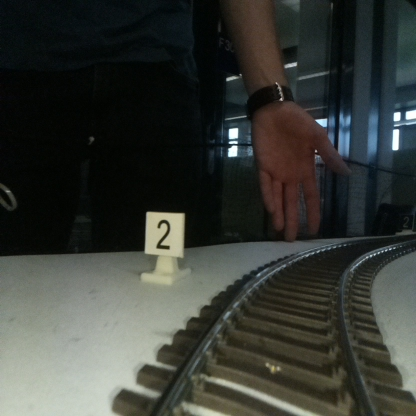white-stop-2: (145, 211, 183, 282)
